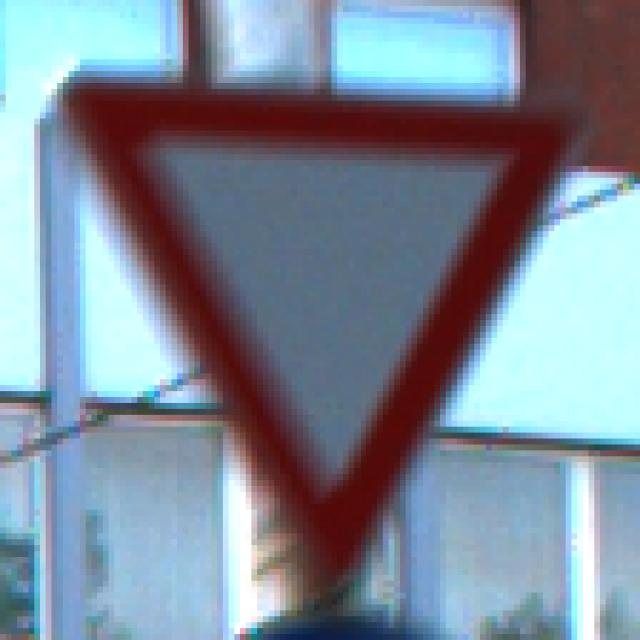Give Way: (58, 60, 590, 588)
